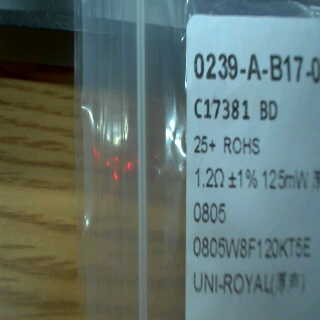1.2R: (191, 164, 231, 225)
